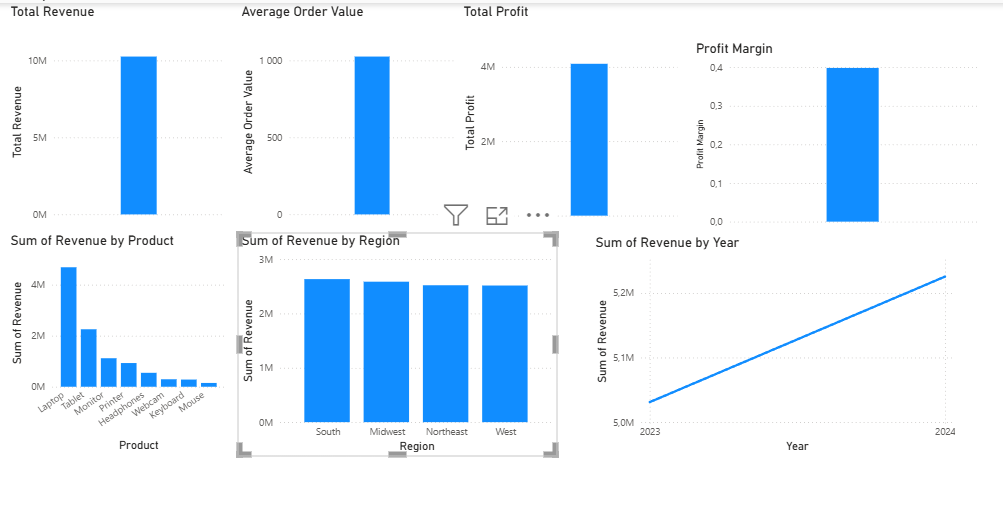

Layout of this report page (visuals, bound fields, positions):
{"tool":"powerbi","page":{"name":"Executive Dashboard","canvas":[1280,720],"ordinal":0},"visuals":[{"type":"clusteredColumnChart","fields":{"Y":["sales_data.Total Revenue"]},"box":[10,0,280,280],"z":0},{"type":"clusteredColumnChart","fields":{"Y":["sales_data.Total Profit"]},"box":[580.2,0,279.7,281.6],"z":1000},{"type":"clusteredColumnChart","fields":{"Y":["sales_data.Profit Margin"]},"box":[873.1,47.2,364.7,241.9],"z":2000},{"type":"clusteredColumnChart","fields":{"Y":["sales_data.Average Order Value"]},"box":[300,0,280,280],"z":3000},{"type":"clusteredColumnChart","fields":{"Y":["Sum(sales_data.Revenue)"],"Category":["sales_data.Product"]},"box":[10,290,280,280],"z":4000},{"type":"clusteredColumnChart","fields":{"Y":["Sum(sales_data.Revenue)"],"Category":["sales_data.Region"]},"box":[300.5,289.1,402.5,281.6],"z":5000},{"type":"lineChart","fields":{"Category":["sales_data.OrderDate.Variation.Date Hierarchy.Year","sales_data.OrderDate.Variation.Date Hierarchy.Quarter","sales_data.OrderDate.Variation.Date Hierarchy.Month","sales_data.OrderDate.Variation.Date Hierarchy.Day"],"Y":["Sum(sales_data.Revenue)"]},"box":[746.5,291,463,279.7],"z":5001}]}

Visuals, with their boxes on the page's 1280x720 design canvas (x1, y1, x2, y2). These are canvas units, not pixel positions in the 1003x516 screenshot, which may show the page scaled, cropped or inside an application window:
clusteredColumnChart - sales_data.Total Revenue: region(10, 0, 290, 280)
clusteredColumnChart - sales_data.Total Profit: region(580, 0, 860, 282)
clusteredColumnChart - sales_data.Profit Margin: region(873, 47, 1238, 289)
clusteredColumnChart - sales_data.Average Order Value: region(300, 0, 580, 280)
clusteredColumnChart - Sum(sales_data.Revenue) x sales_data.Product: region(10, 290, 290, 570)
clusteredColumnChart - Sum(sales_data.Revenue) x sales_data.Region: region(300, 289, 703, 571)
lineChart - sales_data.OrderDate.Variation.Date Hierarchy.Year x sales_data.OrderDate.Variation.Date Hierarchy.Quarter: region(746, 291, 1210, 571)
